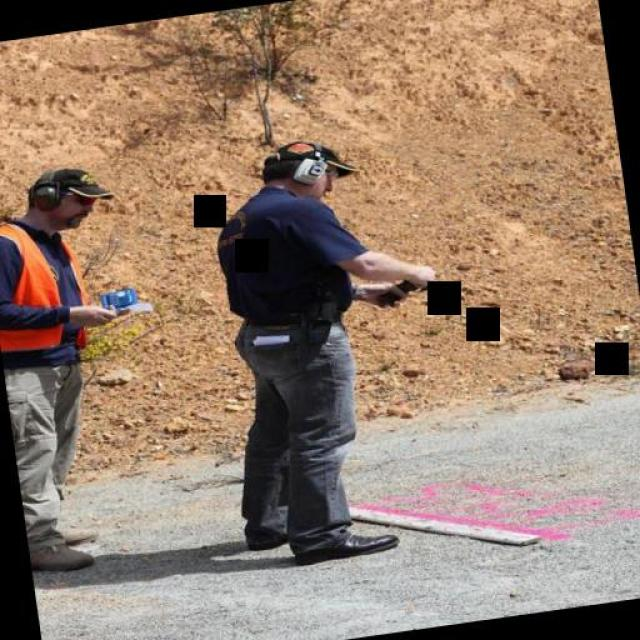gun: (366, 266, 470, 314)
